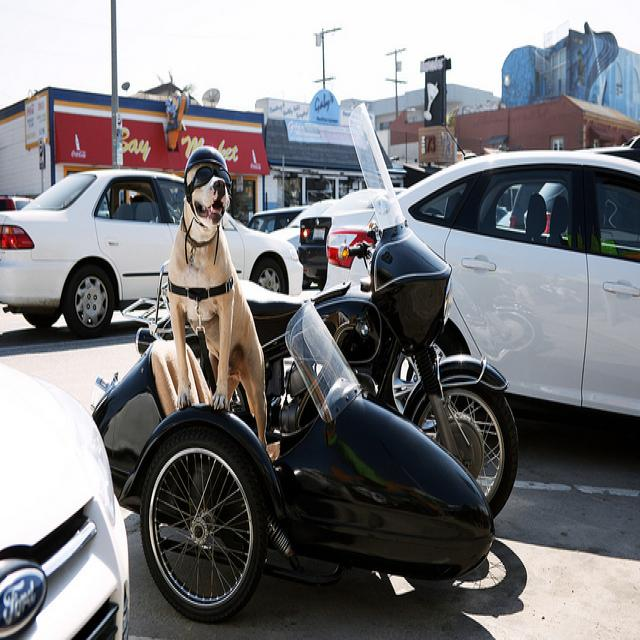motor: (238, 97, 522, 508)
